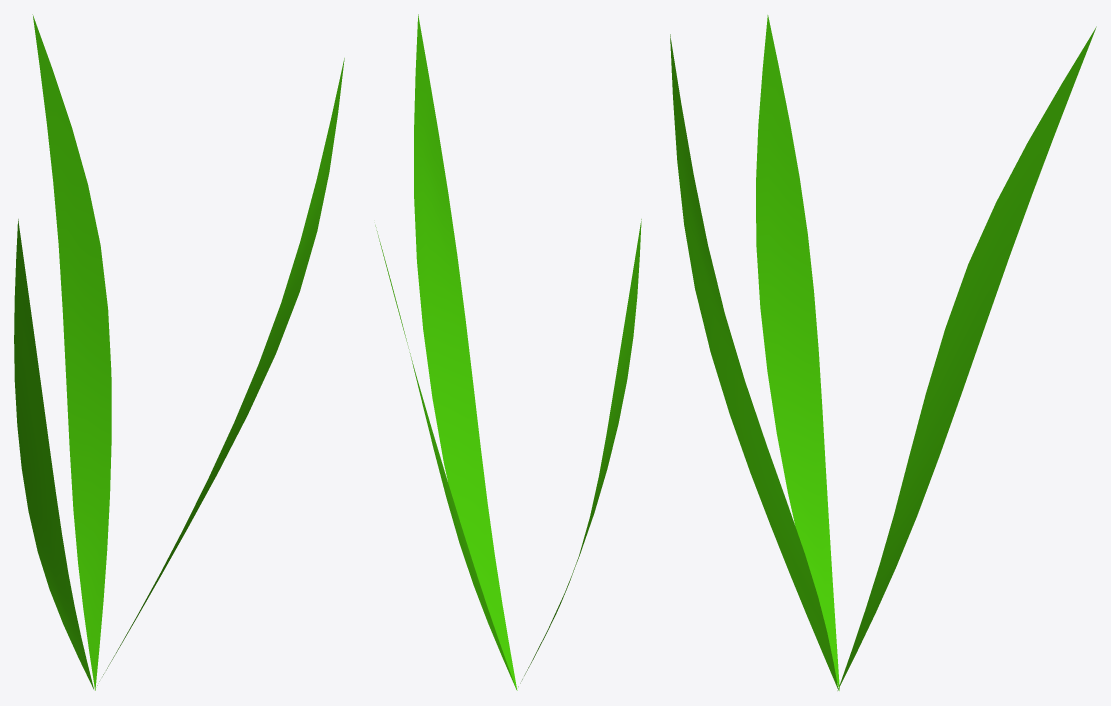
The model's file is plant01.glb.
3 renders of one model, left to right at view 1: azimuth 30°, elevation 25°; view 2: azimuth 150°, elevation 25°; view 3: azimuth 270°, elevation 25°, orthographic. The views are drawn at different scales.
Visible parts, largest first — view 1: obj2, obj3, obj1; view 2: obj1, obj3, obj2; view 3: obj3, obj2, obj1.
Boxes of the visible parts, left/top/right/bottom form: obj2: left=32, top=14, right=111, bottom=690; obj3: left=14, top=219, right=93, bottom=689; obj1: left=97, top=58, right=344, bottom=685; obj1: left=414, top=14, right=517, bottom=690; obj3: left=518, top=219, right=641, bottom=686; obj2: left=375, top=225, right=516, bottom=689; obj3: left=756, top=15, right=839, bottom=690; obj2: left=837, top=26, right=1096, bottom=690; obj1: left=670, top=34, right=838, bottom=690.
Size of the model in its own units: 1.24 by 2.67 by 1.36.
